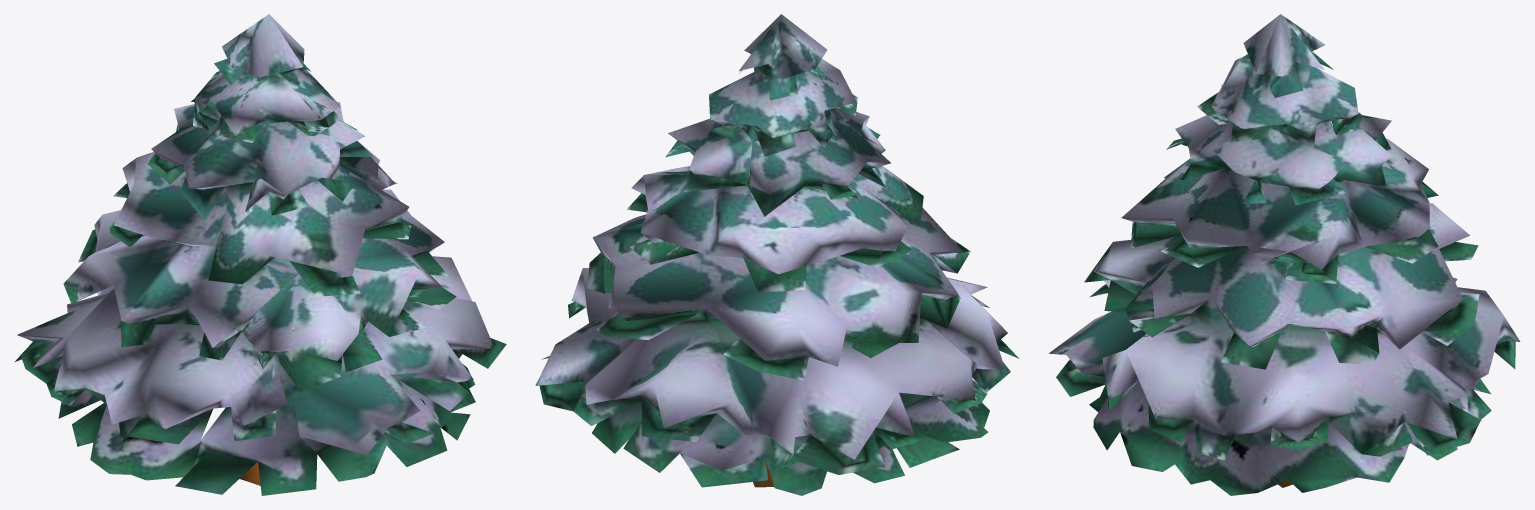
Rendered from SM_Tree_Full.glb.
3 views of the same model, side by side, from view 1: azimuth 30°, elevation 25°; view 2: azimuth 150°, elevation 25°; view 3: azimuth 270°, elevation 25° (orthographic).
Parts seen in each view (by area): view 1: SM_Tree_Full; view 2: SM_Tree_Full; view 3: SM_Tree_Full.
Boxes of the visible parts, bbox=[...] form: SM_Tree_Full: bbox=[15, 14, 506, 495]; SM_Tree_Full: bbox=[535, 14, 1019, 495]; SM_Tree_Full: bbox=[1049, 14, 1520, 495].
Size of what is drawn, in the model's own units: 5.69 by 5.99 by 5.62.
Materials: 1 (1 with a texture image).
